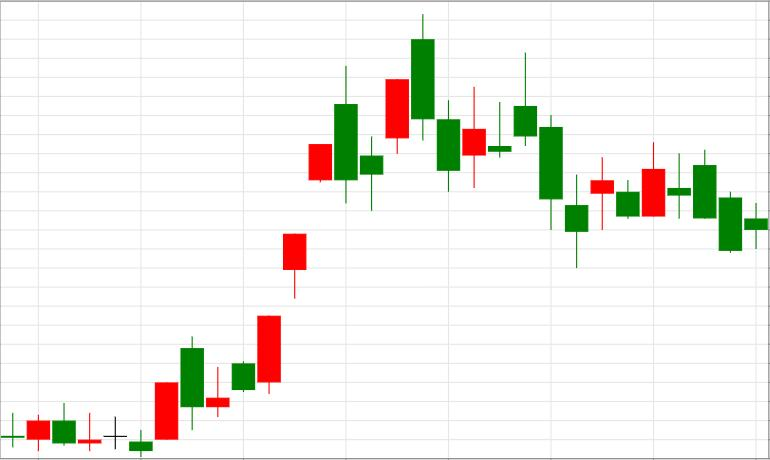bearish_engulfing_fall: (206, 67, 358, 416)
